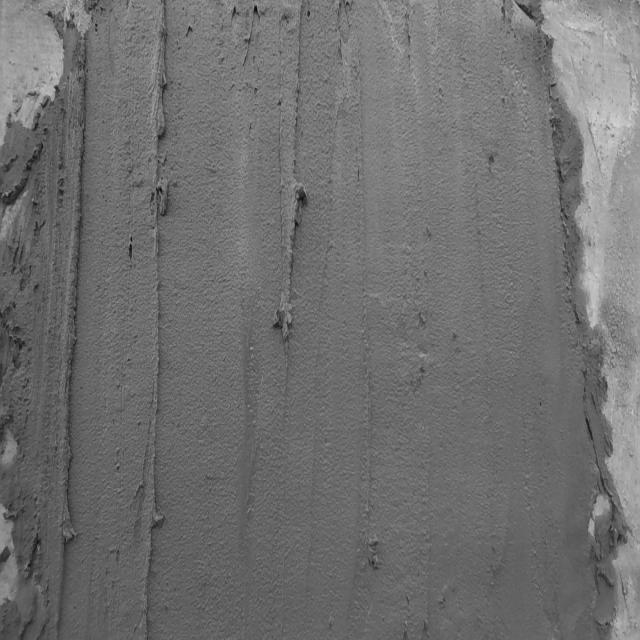trowels marks: (145, 7, 172, 614), (59, 80, 86, 640), (278, 8, 302, 400)
